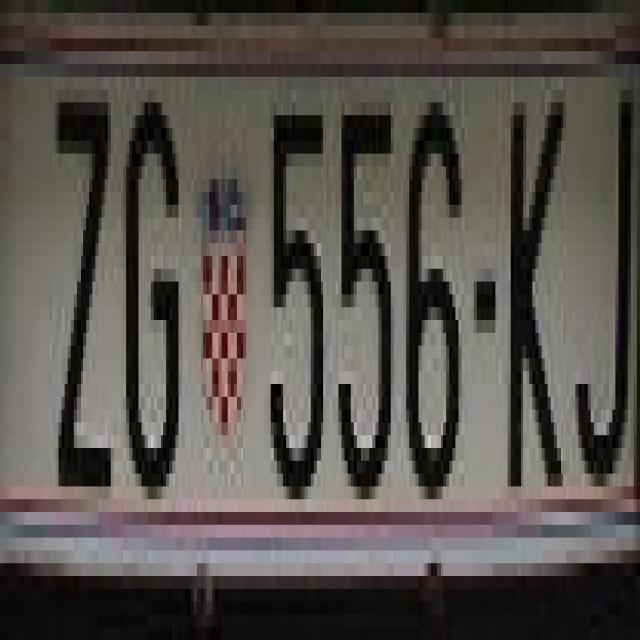5: (335, 90, 394, 499), (265, 90, 323, 499)
6: (403, 77, 465, 512)
G: (123, 90, 182, 512)
K: (502, 90, 566, 499)
Z: (52, 90, 114, 487)
